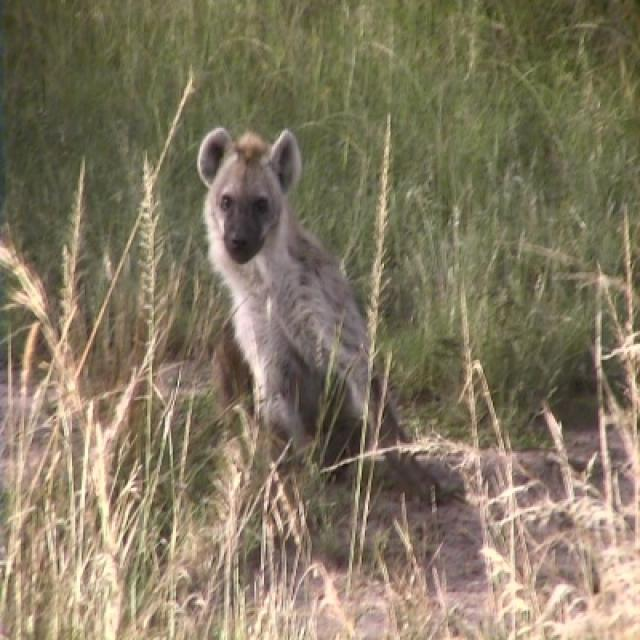hyena: (195, 128, 408, 470)
